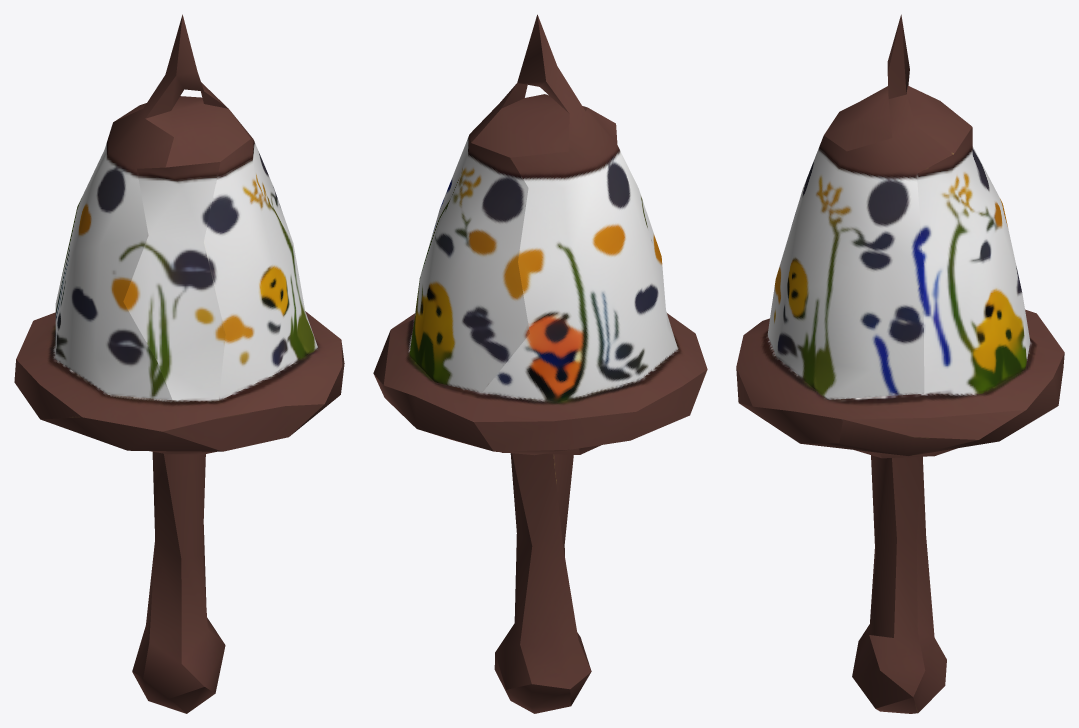
Rendered from cottage-pendant-shade.glb.
The picture shows the model from 3 angles, left to right: view 1: azimuth 30°, elevation 25°; view 2: azimuth 150°, elevation 25°; view 3: azimuth 270°, elevation 25°; orthographic projection.
Visible parts, largest first — view 1: geometry_0; view 2: geometry_0; view 3: geometry_0.
Part boxes in pixels (box(x1,y1,x2,y2)): geometry_0: box(14, 14, 344, 713); geometry_0: box(373, 14, 707, 713); geometry_0: box(736, 14, 1064, 713).
Bounding box in the file's own units: 0.4343 × 1 × 0.4247.
Materials: 1 (1 with a texture image).
